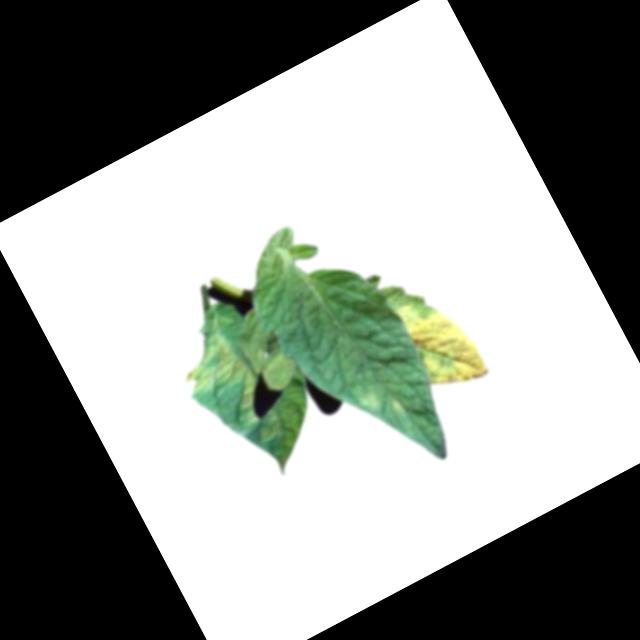Leaf_Mold: (166, 303, 330, 483), (388, 279, 493, 401), (353, 379, 408, 432)
